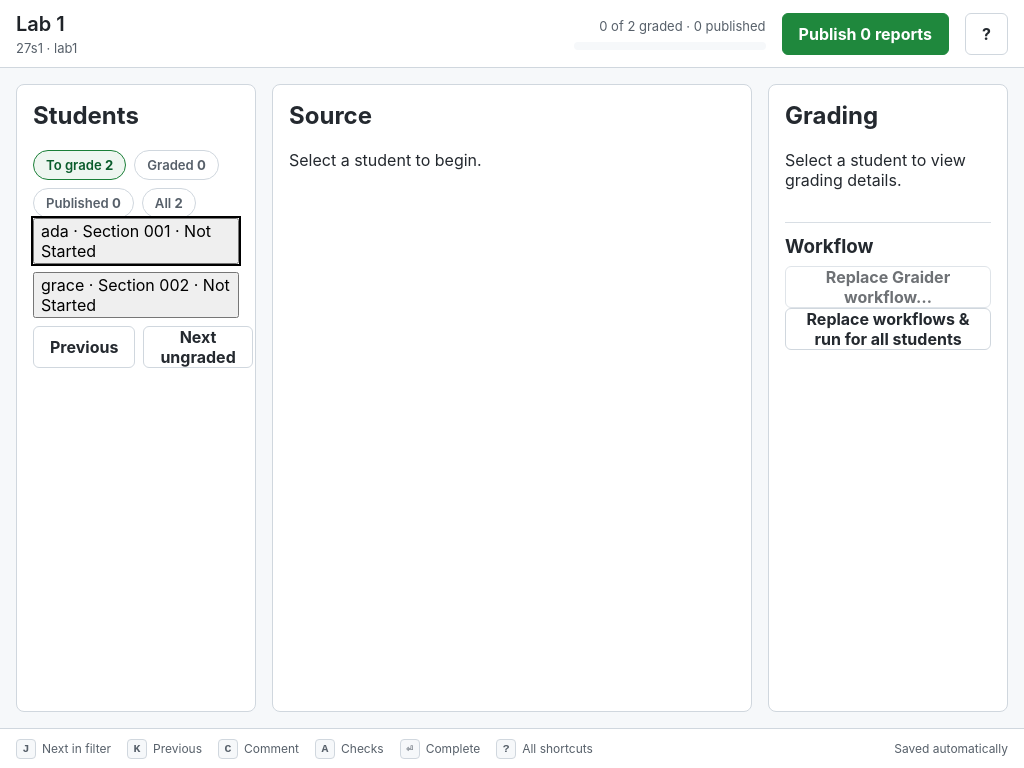
Test case: GradingWorkspacePage workflow repair › requires confirmation for bulk repair and renders its result summary
Click the button "Replace workflows & run for all students": (888, 329) [785,308,991,350]
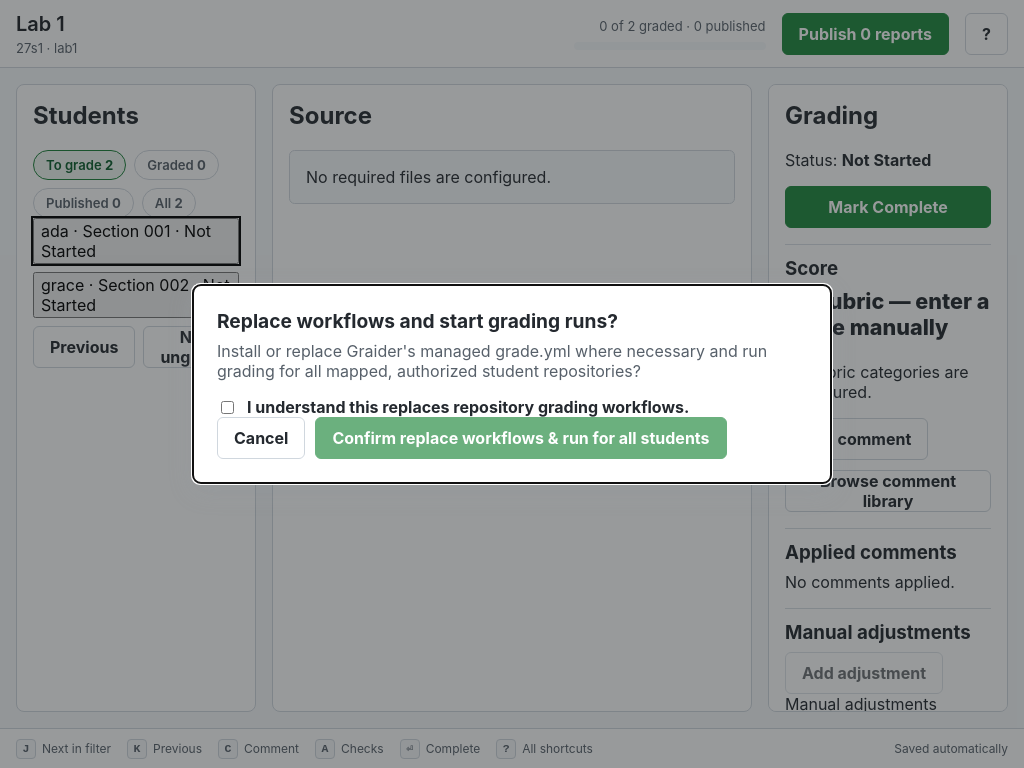
Click the checkbox labelled "I understand this replaces repository grading workflows.": (228, 408) [221,401,234,414]
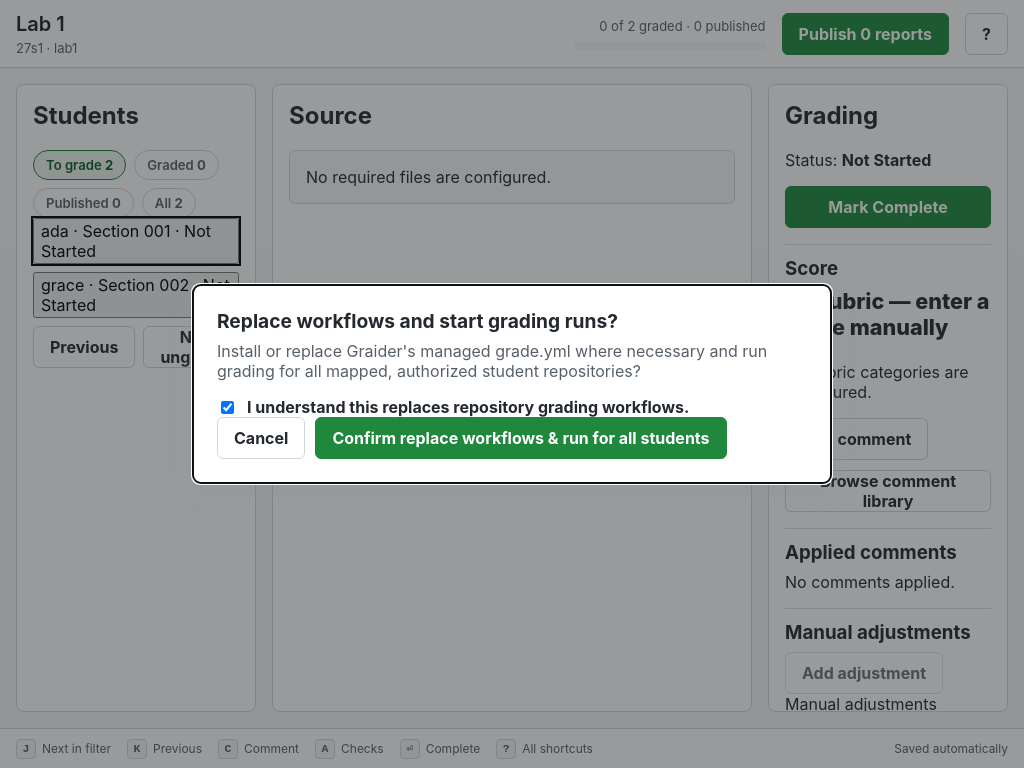
Click the button "Confirm replace workflows & run for all students": (521, 438) [315,417,727,459]
(page scrolled)
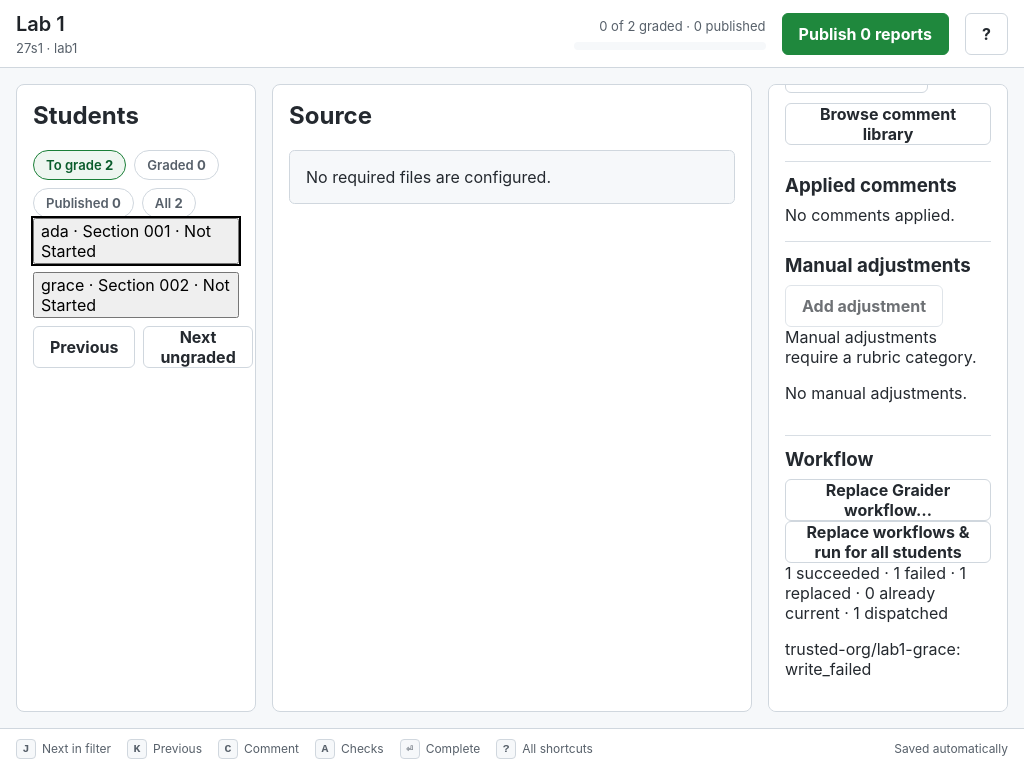
expect the text "1 succeeded · 1 failed" is shown: met, box [785,562,991,622]
expect the text "trusted-org/lab1-grace: write_failed" is shown: met, box [785,638,991,678]
